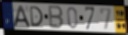0: (66, 7, 79, 30)
7: (99, 7, 114, 32), (85, 7, 97, 32)
A: (13, 5, 31, 28)
B: (48, 4, 64, 30)
D: (29, 5, 44, 28)
